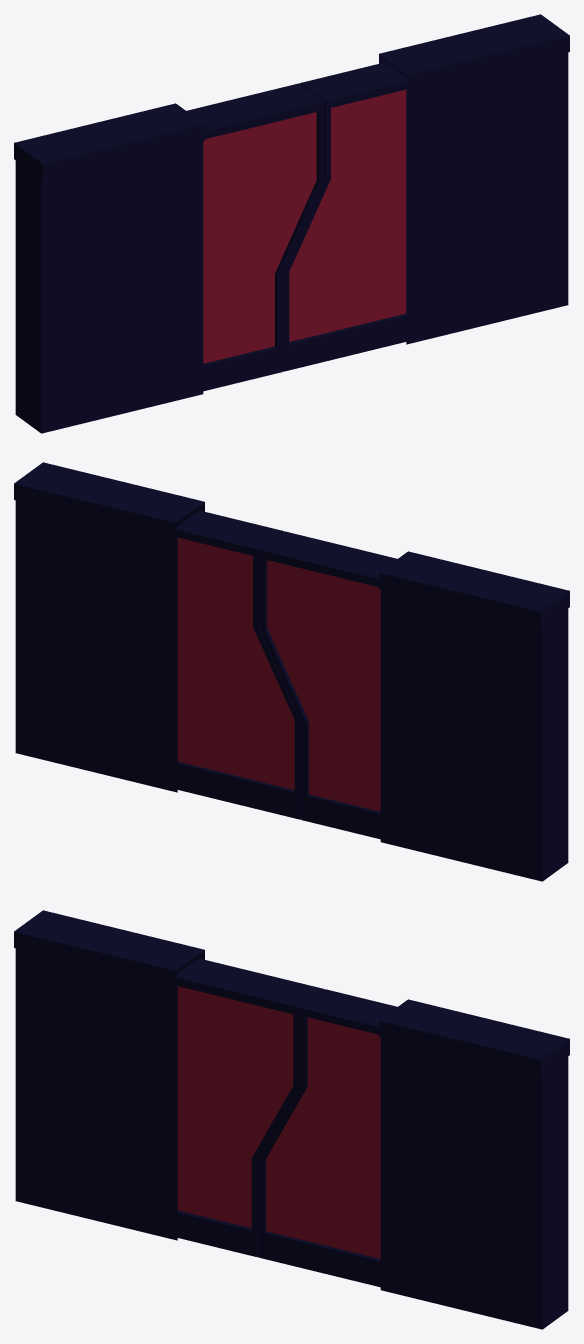
Rendered from Door.glb.
The picture shows the model from 3 angles, top to bottom: view 1: azimuth 30°, elevation 25°; view 2: azimuth 150°, elevation 25°; view 3: azimuth 330°, elevation 25°; orthographic projection.
Visible parts, largest first — view 1: sides, right, left; view 2: sides, right, left; view 3: sides, left, right.
Part boxes in pixels (<box>): sides: <box>14,14,569,433</box>; right: <box>282,62,407,371</box>; left: <box>186,83,324,391</box>; sides: <box>14,462,569,881</box>; right: <box>176,510,301,819</box>; left: <box>259,531,397,839</box>; sides: <box>14,910,569,1329</box>; left: <box>176,958,324,1256</box>; right: <box>258,989,397,1287</box>.
Size of the model in its own units: 2.93 by 1.44 by 0.2805.
